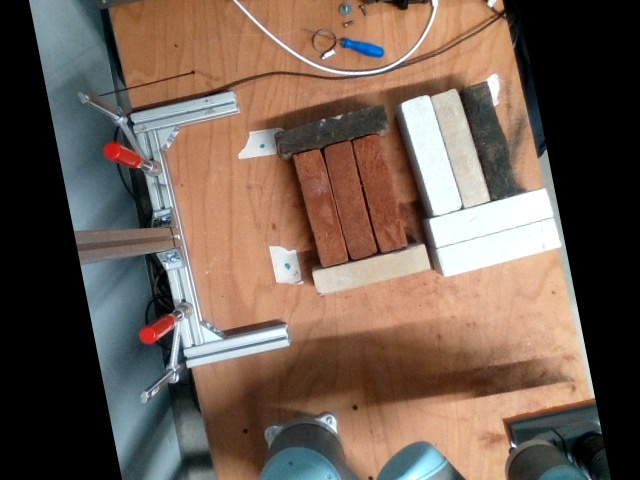brick-side: (403, 94, 462, 215), (439, 218, 560, 275), (430, 189, 551, 246), (433, 87, 489, 207), (461, 81, 517, 198), (295, 150, 349, 263), (324, 143, 377, 257), (353, 136, 406, 249), (276, 103, 388, 154), (316, 245, 428, 292)
